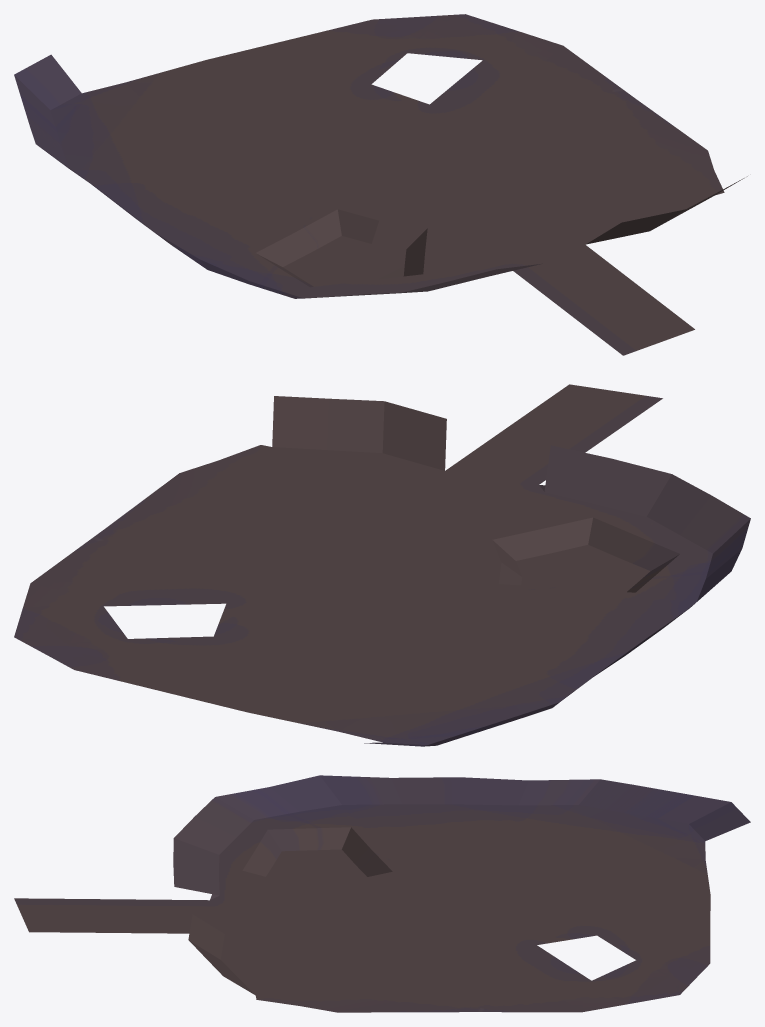
The model's file is CaveGround.fbx.
3 renders of one model, top to bottom at view 1: azimuth 30°, elevation 25°; view 2: azimuth 150°, elevation 25°; view 3: azimuth 270°, elevation 25°, orthographic. The views are drawn at different scales.
Parts seen in each view (by area): view 1: GroundMesh; view 2: GroundMesh; view 3: GroundMesh.
Part boxes in pixels (x1=…): GroundMesh: x1=14, y1=14, x2=747, y2=355; GroundMesh: x1=14, y1=384, x2=750, y2=746; GroundMesh: x1=14, y1=775, x2=750, y2=1012.
Size of the model in its own units: 11120 by 964 by 15968.
